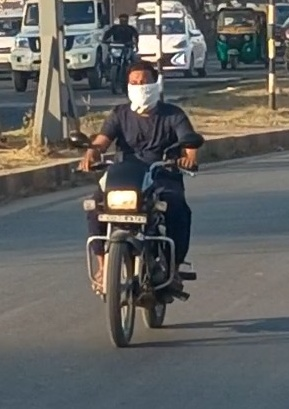BikeWithRider: (65, 62, 206, 348), (96, 12, 143, 94)
NoHelmet: (124, 64, 165, 113)
